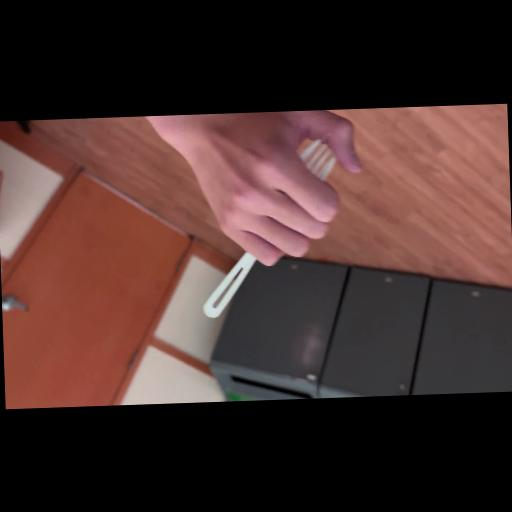utensil: (174, 137, 370, 332)
